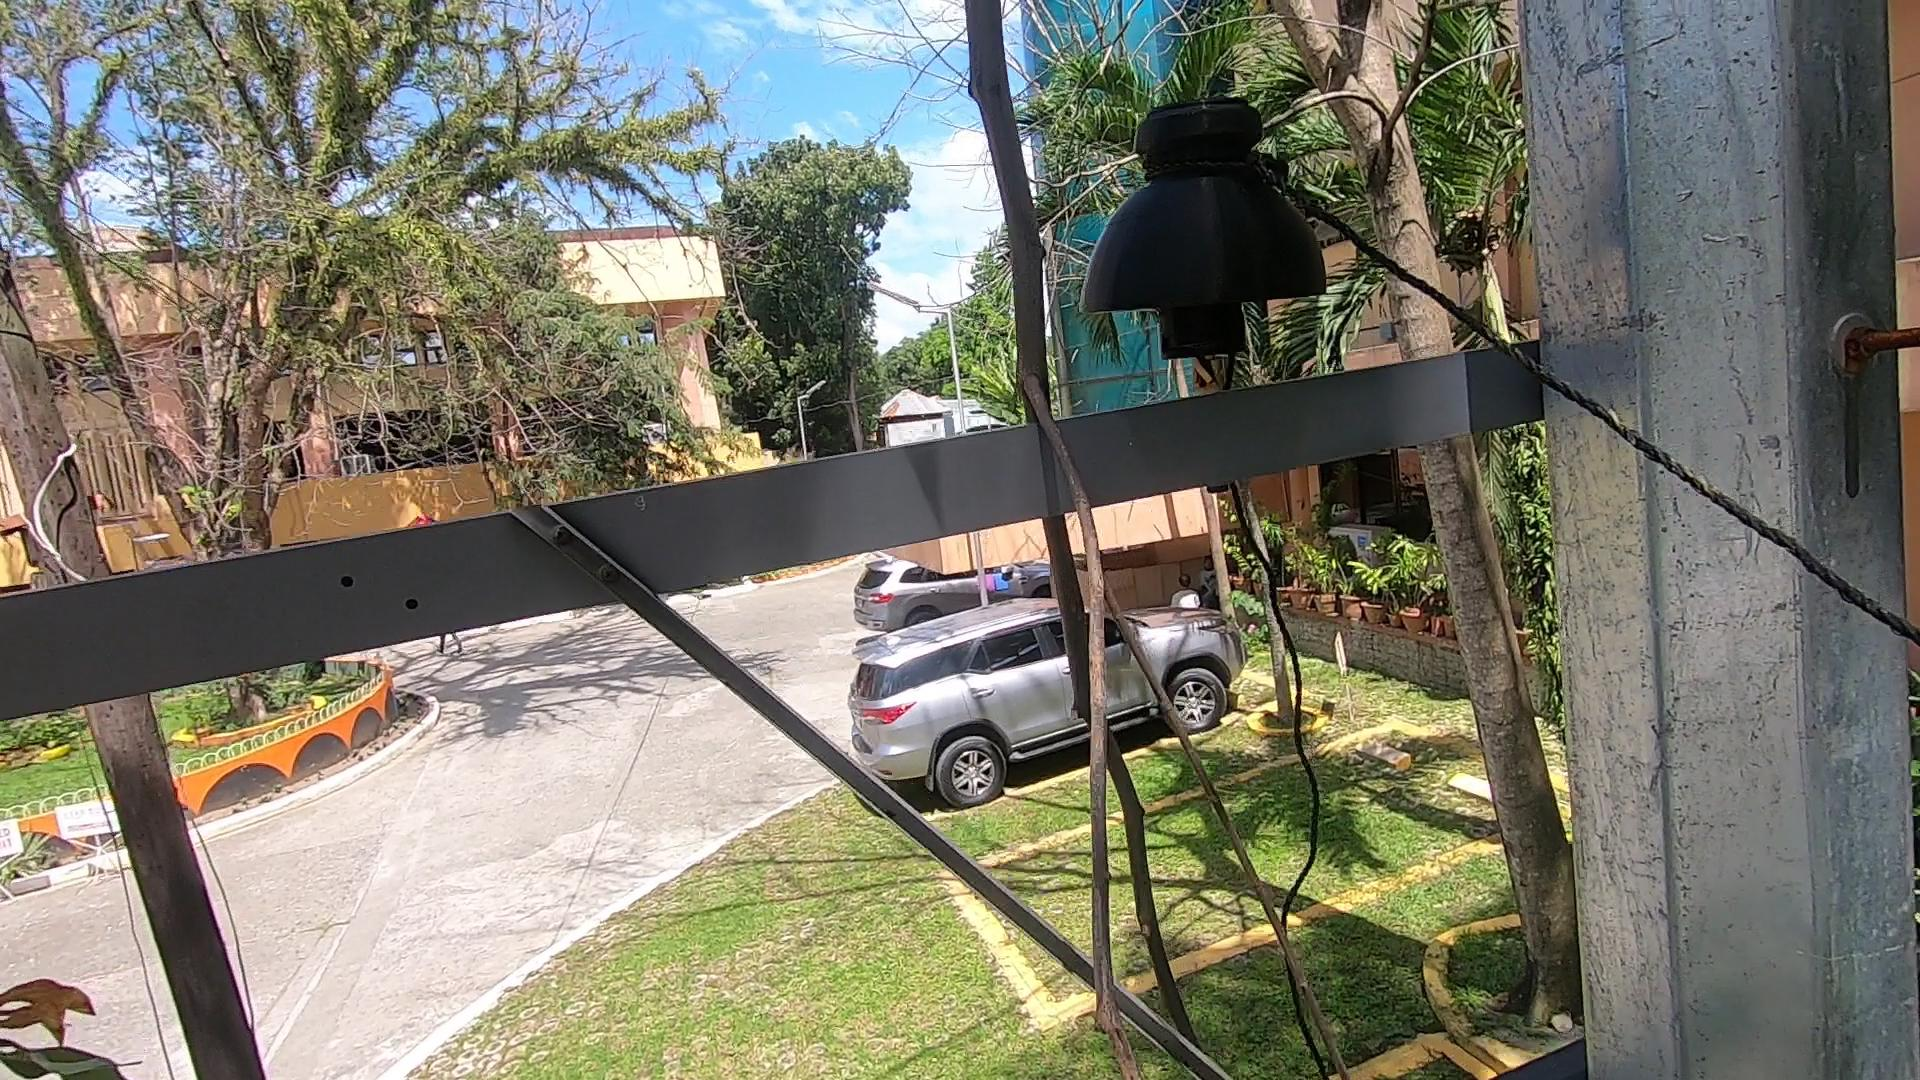tree branch: (899, 3, 1269, 1062)
